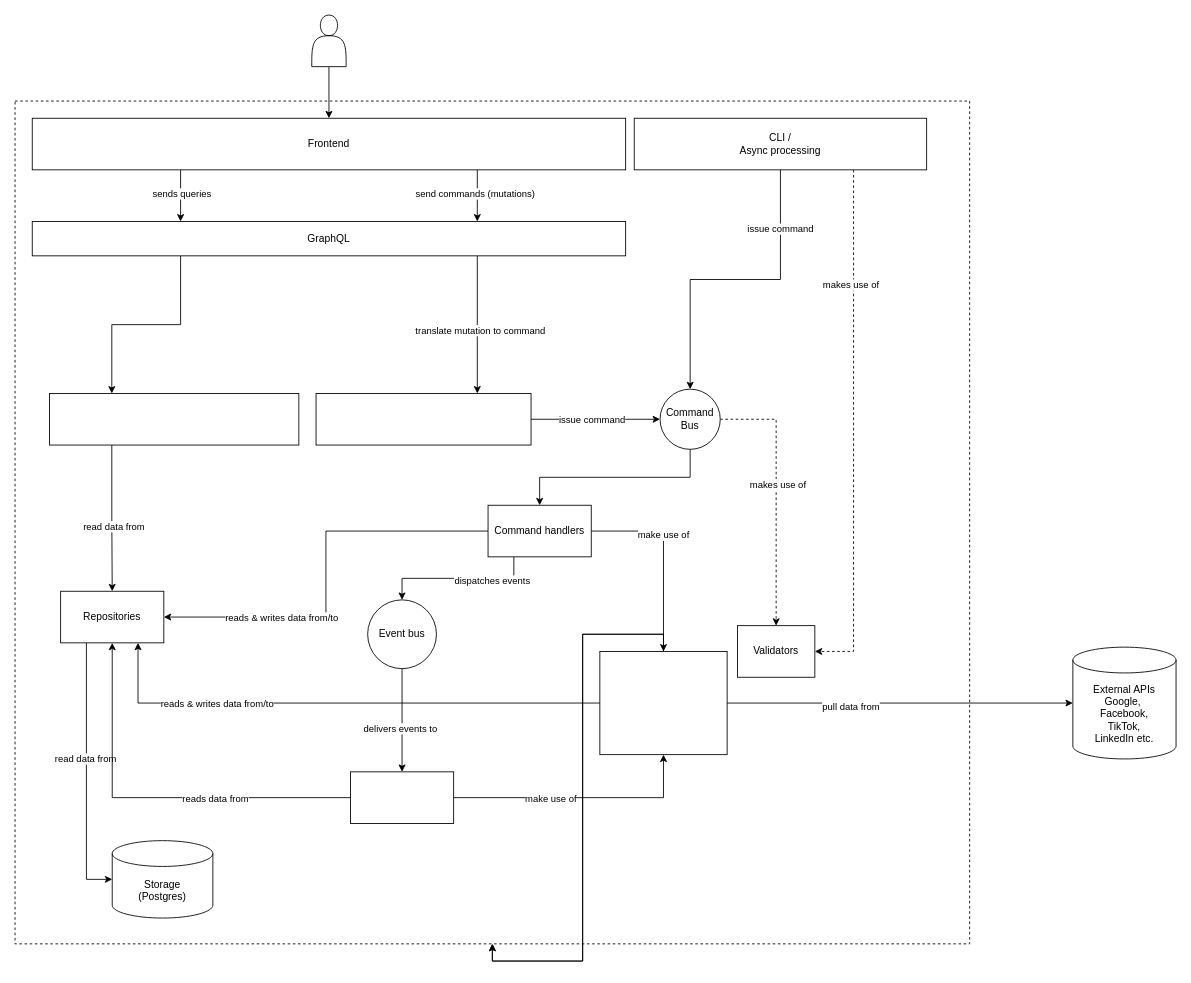
This 1191x983 diagram has some shape labels left out. Each missing label, with the box of its shape:
Command resolvers: (315, 393, 531, 445)
Event handlers: (350, 771, 454, 823)
Query resolvers: (49, 393, 299, 445)
Services Security Notifications Facebook Google etc: (599, 651, 727, 755)
User: (311, 14, 346, 67)
